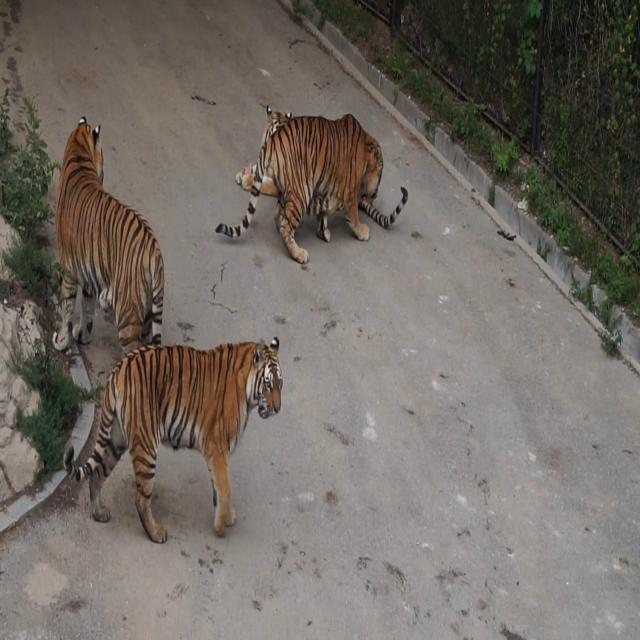Tiger: (62, 336, 282, 540), (210, 107, 392, 270), (49, 116, 164, 353), (234, 103, 409, 229)
